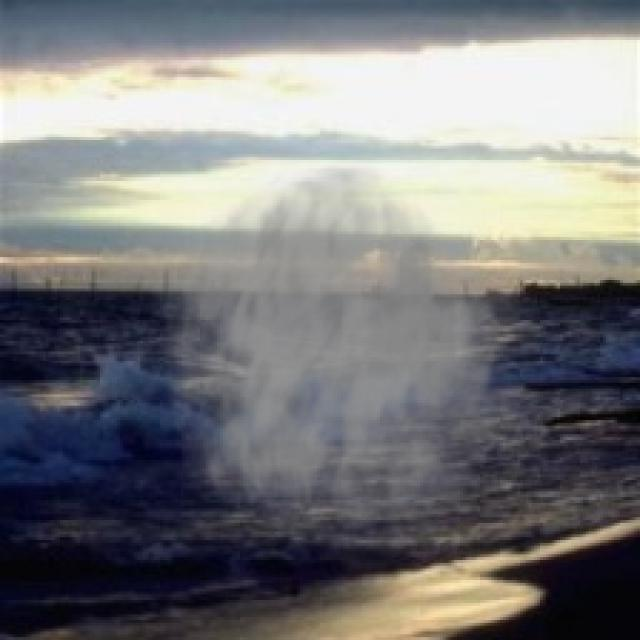Smoke: (152, 163, 537, 580)
